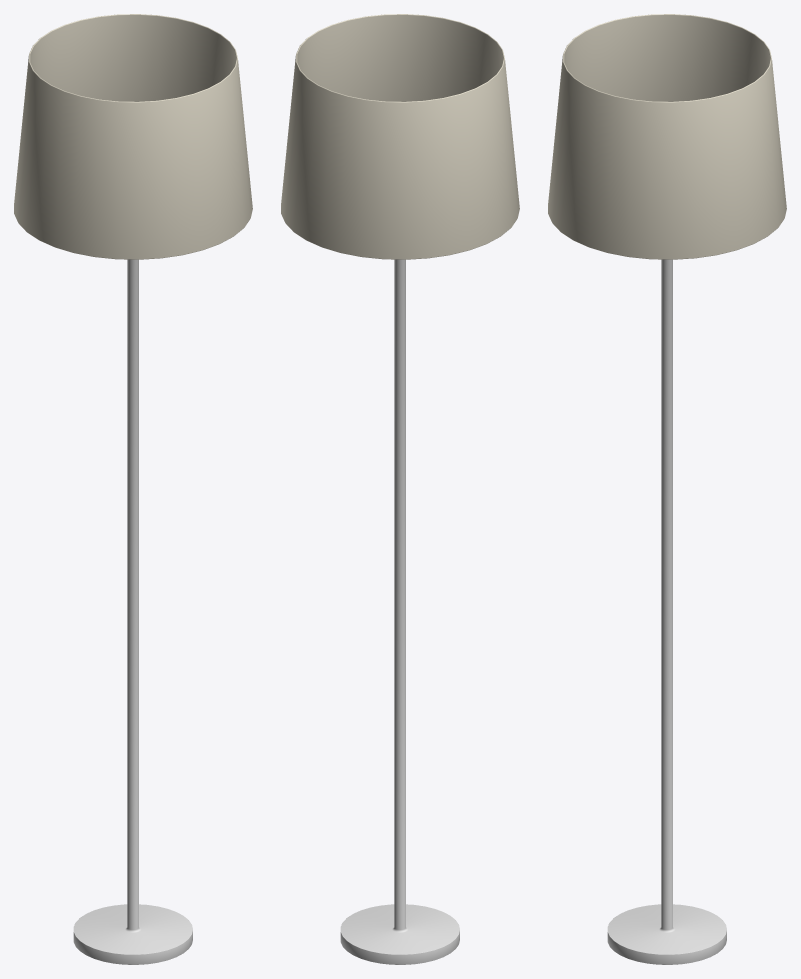
Rendered from Lamp.glb.
3 views of the same model, side by side, from view 1: azimuth 30°, elevation 25°; view 2: azimuth 150°, elevation 25°; view 3: azimuth 270°, elevation 25° (orthographic).
Parts seen in each view (by area): view 1: Lamphead, Lamp stand; view 2: Lamphead, Lamp stand; view 3: Lamphead, Lamp stand.
Part boxes in pixels (x1,y1,x2,y2): Lamphead: [14, 14, 252, 259]; Lamp stand: [73, 259, 192, 964]; Lamphead: [281, 14, 519, 259]; Lamp stand: [340, 259, 459, 964]; Lamphead: [548, 14, 786, 259]; Lamp stand: [607, 259, 726, 964].
Size of the model in its own units: 38.51 by 157 by 38.47.
